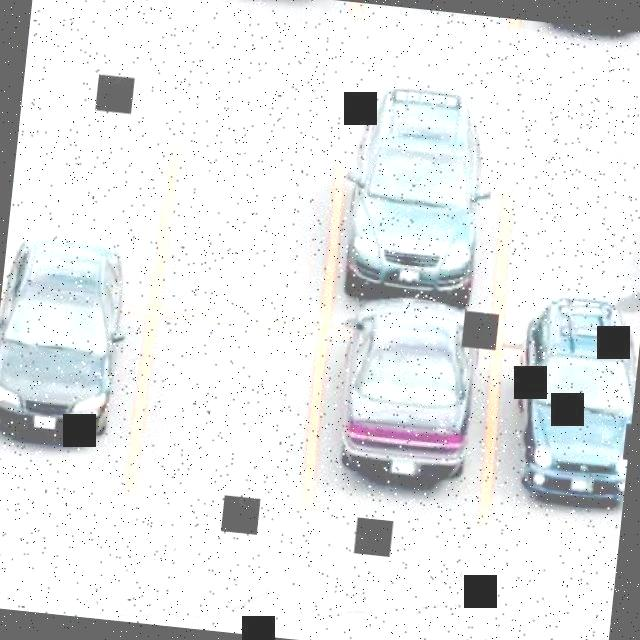car: (346, 78, 494, 300), (335, 301, 478, 497), (0, 245, 133, 447), (513, 301, 640, 511)
free: (142, 313, 320, 532), (182, 130, 338, 316), (13, 124, 150, 248), (512, 166, 640, 297)
